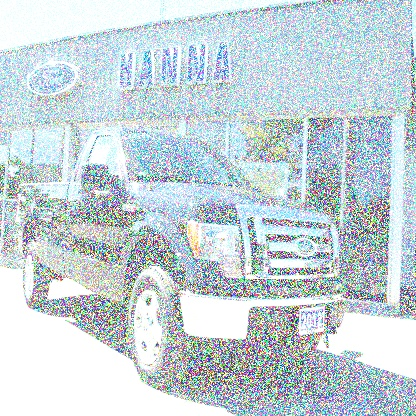Vehicle: (14, 123, 347, 394)
